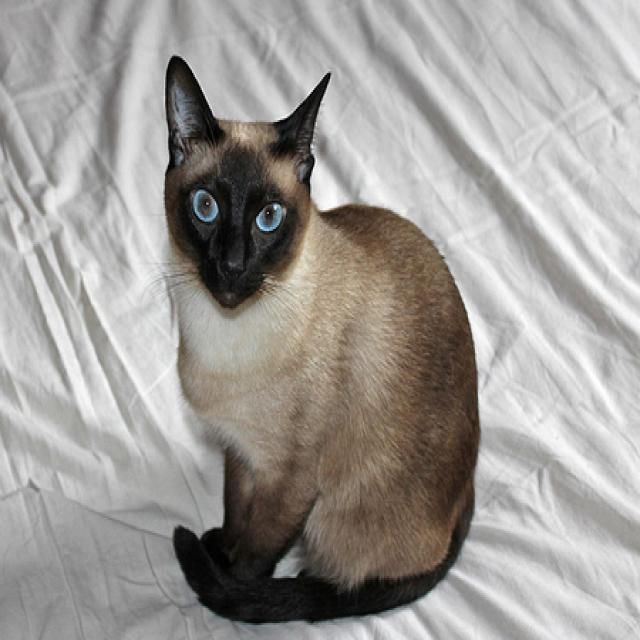Siamese: (162, 54, 484, 629)
